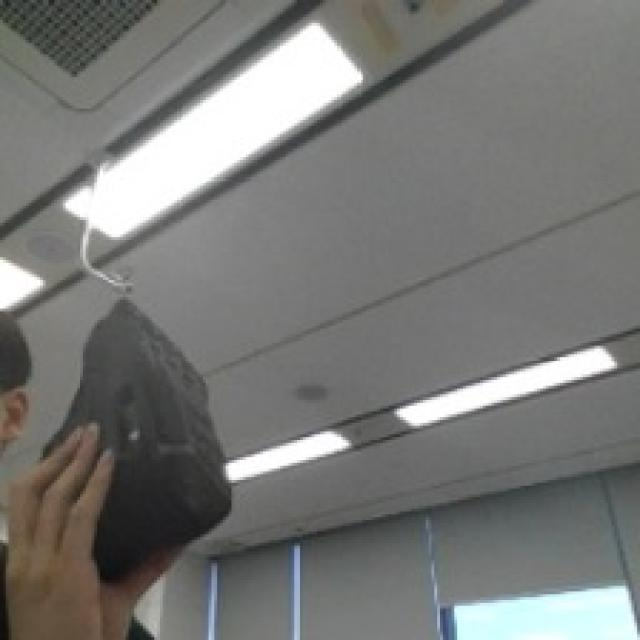shoe: (38, 265, 304, 595)
